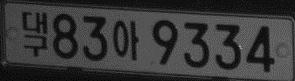3: (215, 22, 242, 70), (82, 15, 108, 62), (183, 22, 210, 67)
4: (245, 25, 275, 72)
8: (52, 12, 78, 59)
9: (151, 19, 179, 64)
대구_V: (21, 11, 48, 58)
아: (112, 19, 139, 60)
